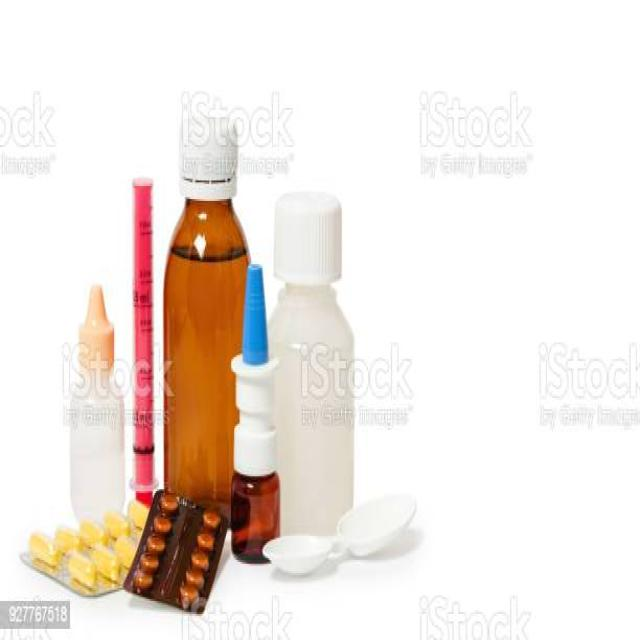B3: (157, 74, 258, 523), (262, 182, 372, 534), (58, 262, 128, 528), (230, 247, 286, 578), (126, 472, 236, 620), (14, 493, 166, 599)
